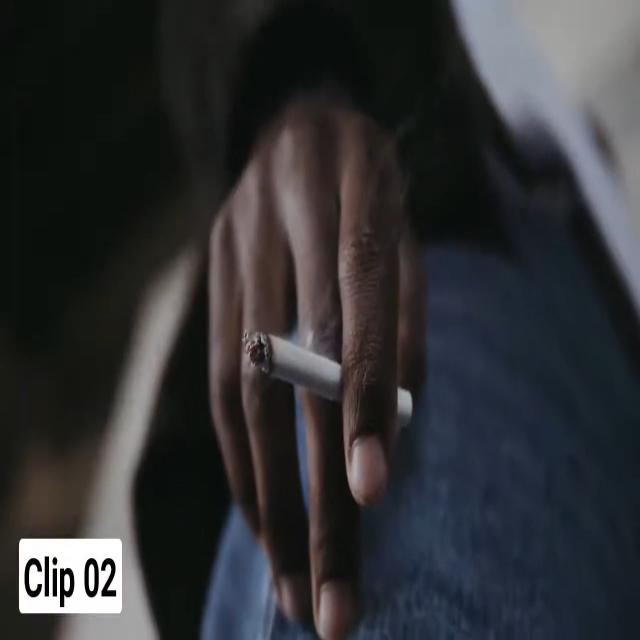Курение: (242, 329, 418, 434)
